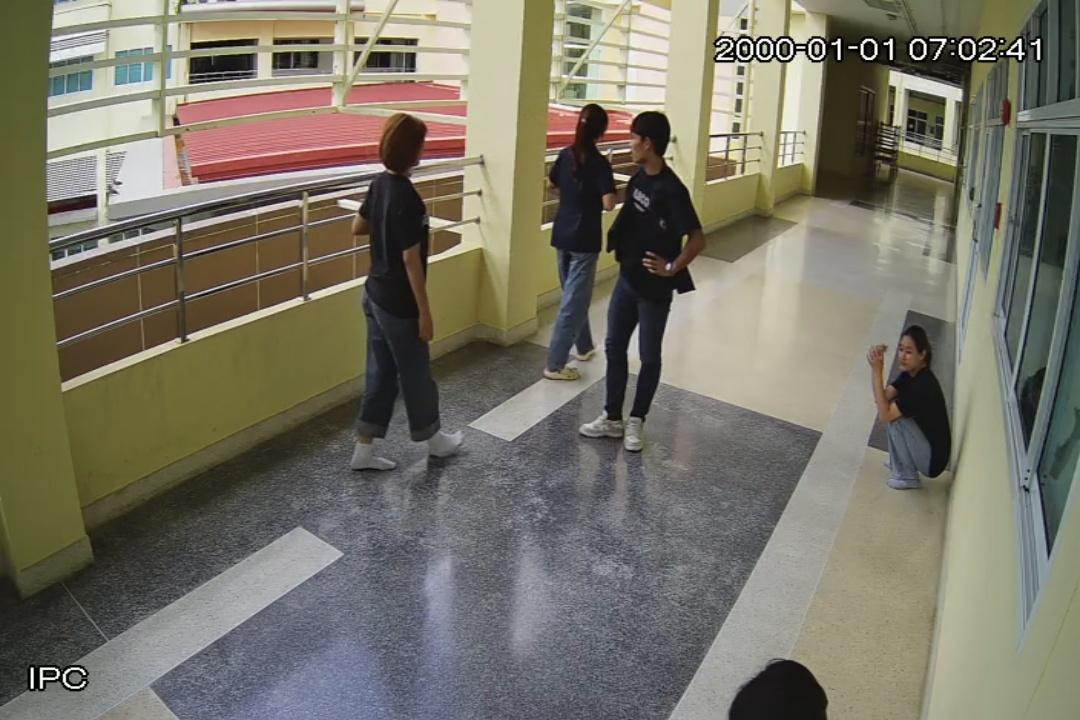normal: (357, 115, 462, 469), (600, 110, 704, 454), (547, 105, 614, 376), (869, 326, 952, 490)
